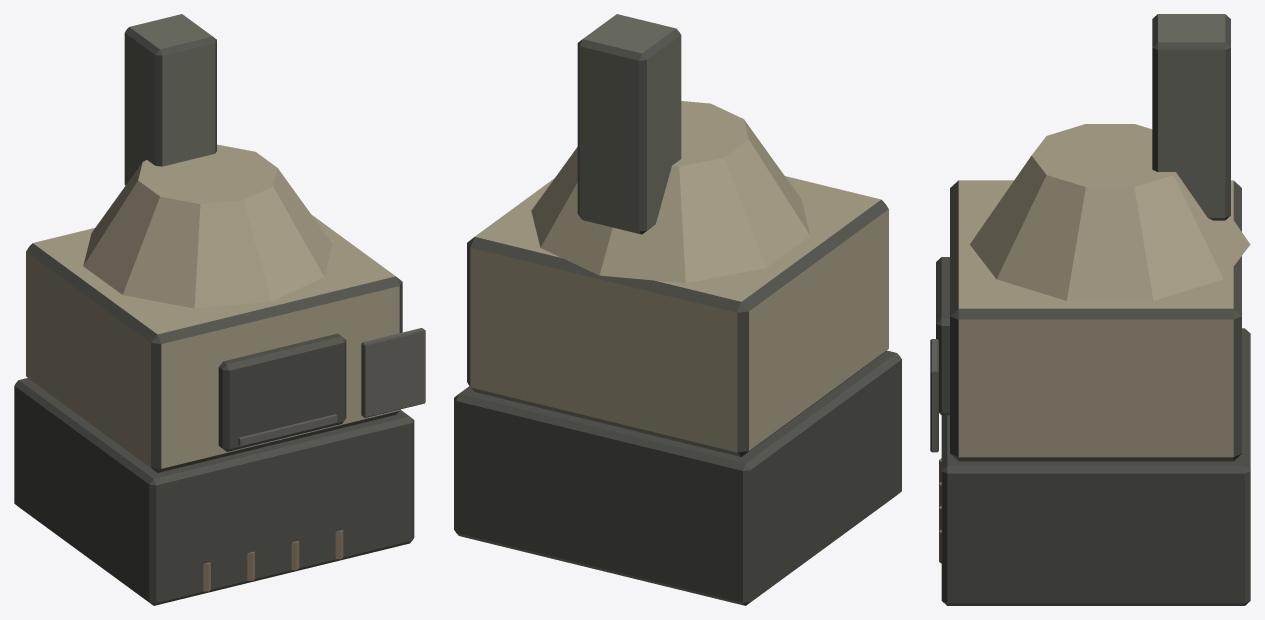
Rendered from oven.glb.
The picture shows the model from 3 angles, left to right: view 1: azimuth 30°, elevation 25°; view 2: azimuth 150°, elevation 25°; view 3: azimuth 270°, elevation 25°; orthographic projection. The views are drawn at different scales.
Visible parts, largest first — view 1: Oven; view 2: Oven; view 3: Oven.
Boxes of the visible parts, x1,y1,x2,y2 form: Oven: [14, 14, 425, 605]; Oven: [454, 14, 901, 605]; Oven: [930, 14, 1250, 605].
Bounding box in the file's own units: 1.22 × 2 × 1.14.
